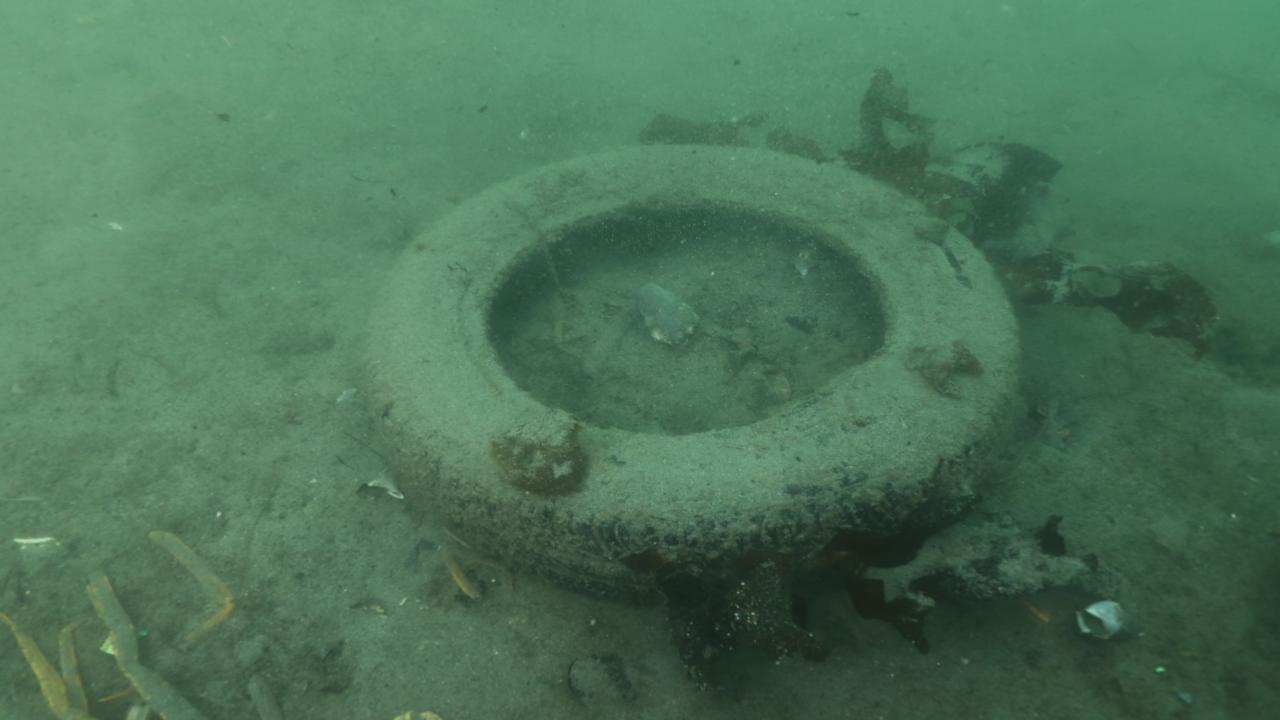tire: (359, 143, 1027, 606)
